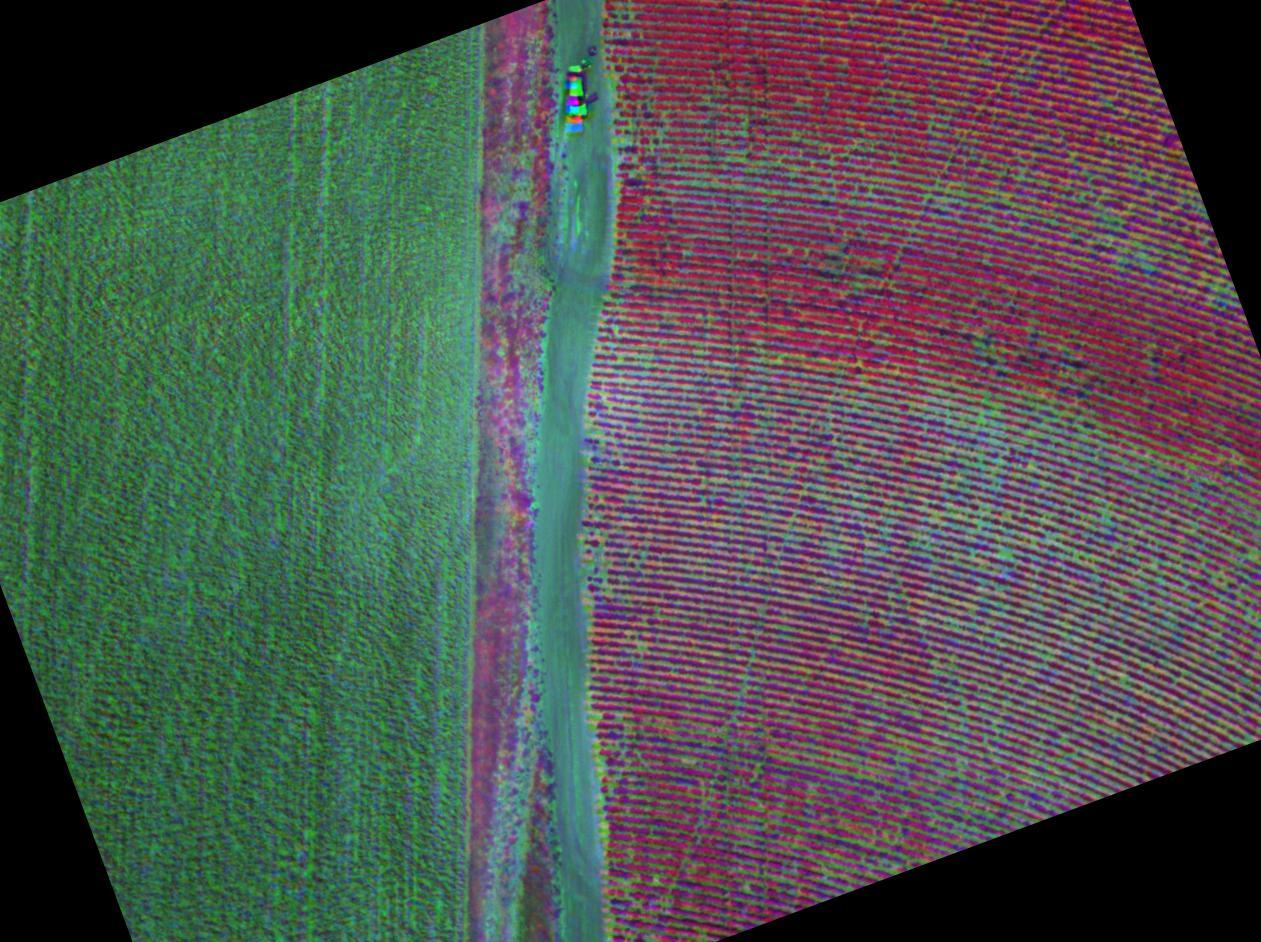dc: (743, 123, 746, 127), (773, 190, 776, 194), (742, 159, 745, 162), (926, 194, 929, 197), (984, 260, 987, 263), (893, 161, 896, 163)
